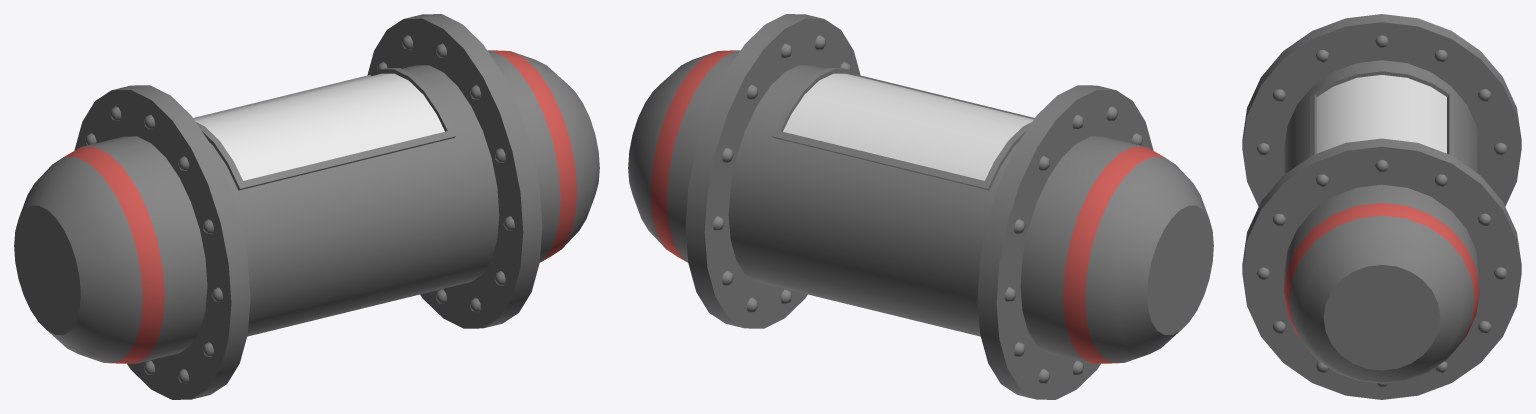
3 views of the same model, side by side, from view 1: azimuth 30°, elevation 25°; view 2: azimuth 150°, elevation 25°; view 3: azimuth 270°, elevation 25° (orthographic). The views are drawn at different scales.
Visible parts, largest first — view 1: Cylinder, WindowBorder, Screws; view 2: Cylinder, WindowBorder, Screws; view 3: Cylinder, Screws, WindowBorder.
Part boxes in pixels (bbox=[...]): Cylinder: bbox=[14, 14, 599, 399]; WindowBorder: bbox=[193, 68, 455, 190]; Screws: bbox=[85, 35, 514, 383]; Cylinder: bbox=[628, 14, 1213, 399]; WindowBorder: bbox=[772, 68, 1034, 190]; Screws: bbox=[713, 35, 1142, 383]; Cylinder: bbox=[1242, 14, 1521, 399]; Screws: bbox=[1256, 35, 1507, 387]; WindowBorder: bbox=[1310, 68, 1453, 156].
Size of the model in its own units: 0.8621 by 0.4598 by 0.4598.
